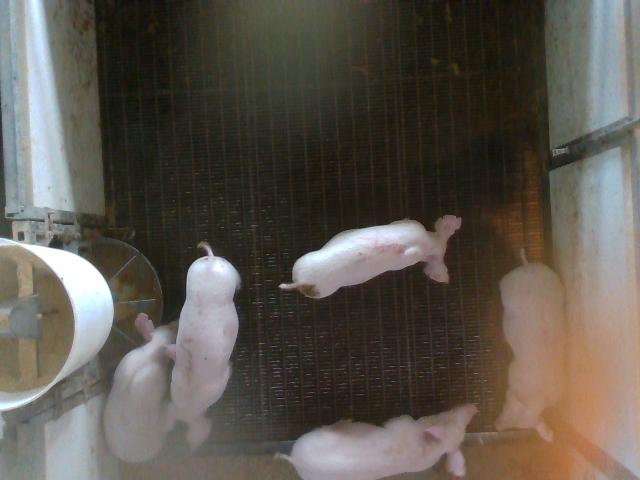pig-3: (160, 243, 240, 449)
pig-5: (279, 215, 461, 298)
